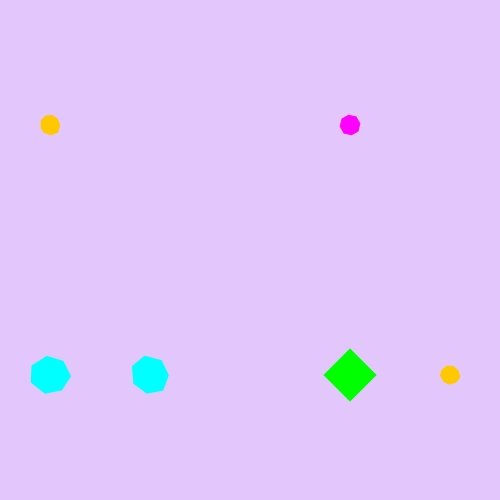heptagon: (27, 353, 74, 398), (127, 353, 173, 397)
nonagon: (36, 111, 65, 139), (436, 361, 465, 389)
octagon: (335, 110, 365, 140)
quadrilateral: (321, 346, 380, 405)
